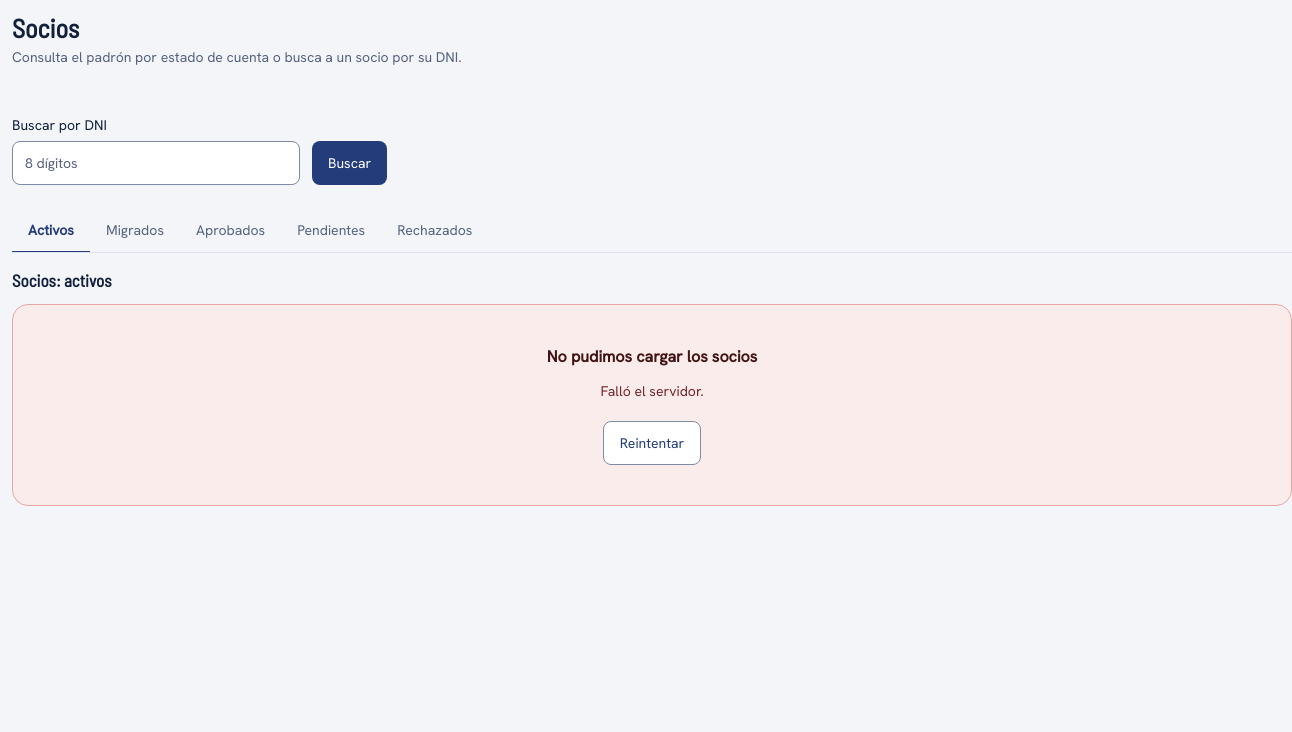
Test: MembersManagementPage › muestra error con reintento si falla la carga de la lista
This screenshot has width=1292, height=732.
Expected: the heading "No pudimos cargar los socios" is shown, [547,345,757,369]
Expected: the text "Falló el servidor." is shown, [600,381,704,401]
Click the button "Reintentar" at (652, 443), box [603,421,701,465]
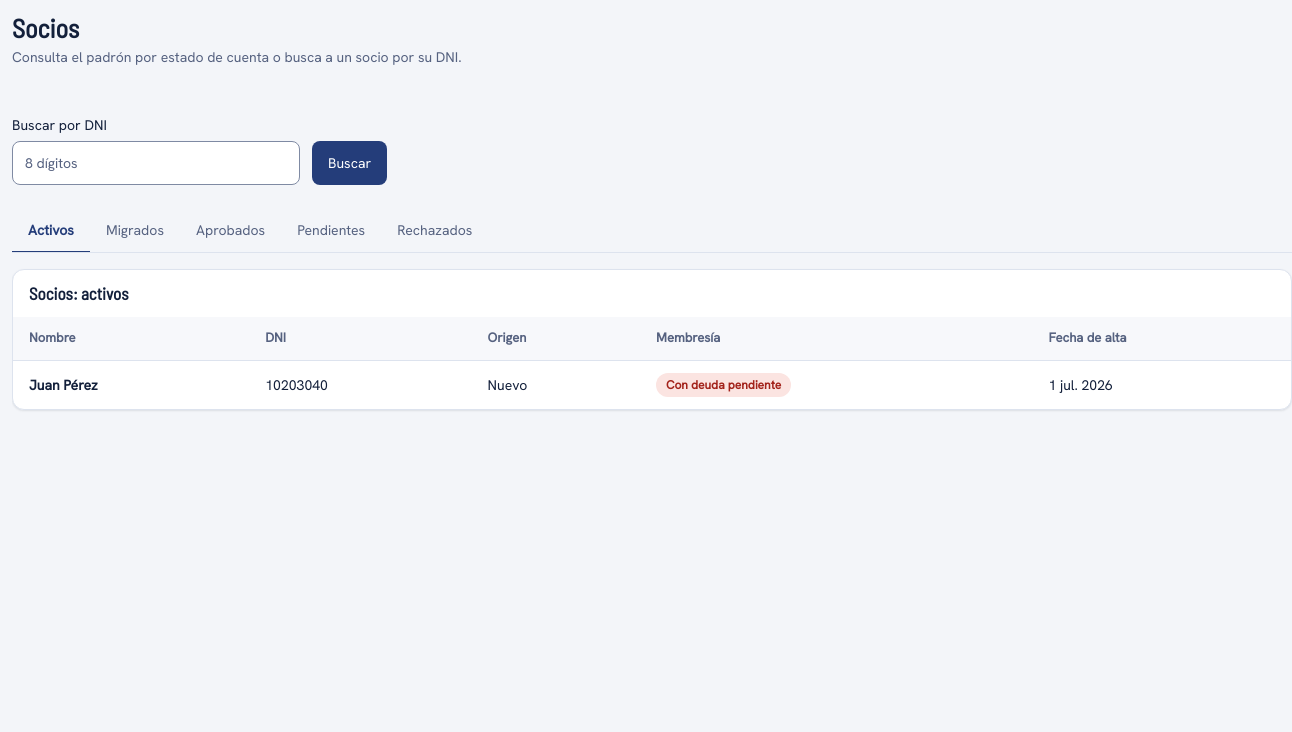
Expected: the text "Juan Pérez" is shown, [29,376,98,394]
